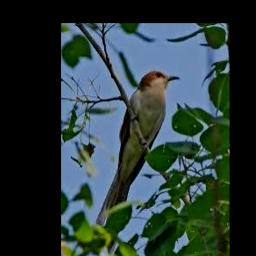Cuckoo: (95, 70, 180, 252)
